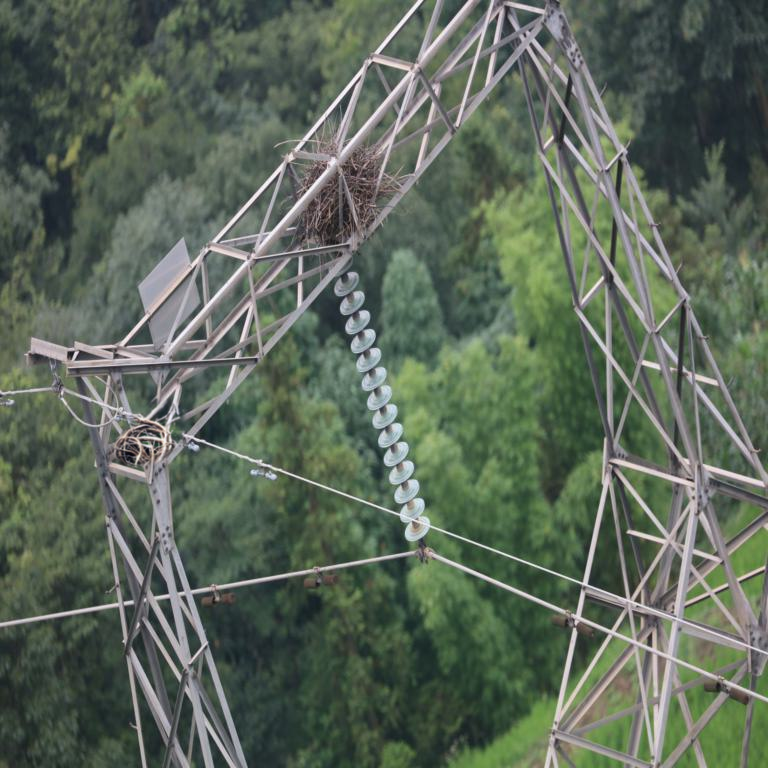nest: (297, 148, 381, 245), (115, 424, 165, 471)
